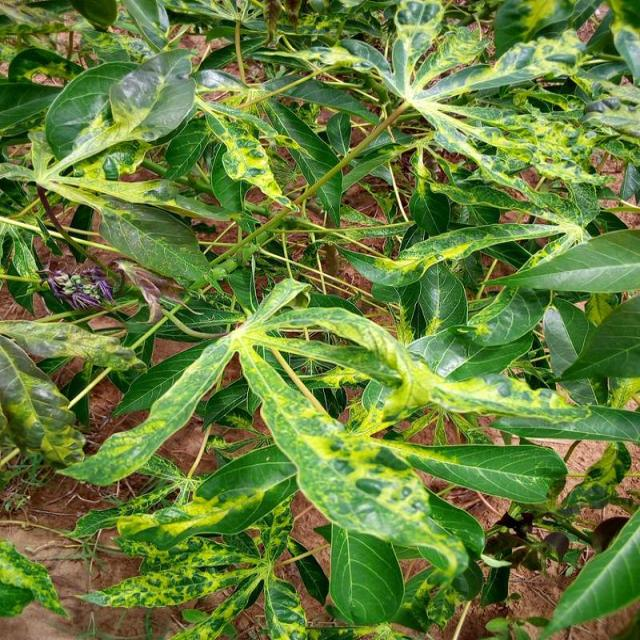cassava leaf: (1, 1, 638, 636), (237, 338, 473, 583)
